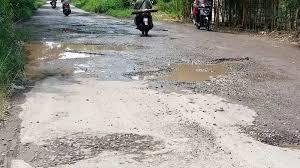Pothole: (12, 121, 166, 168), (127, 53, 265, 95), (23, 29, 104, 78), (248, 118, 300, 165), (66, 20, 97, 40), (150, 25, 183, 36)
